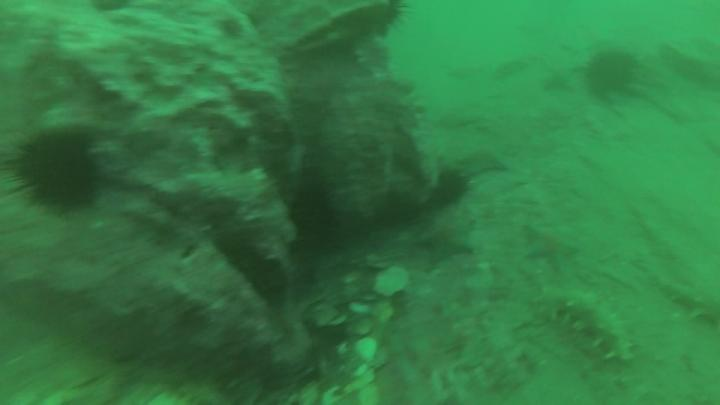echinus: (18, 134, 94, 208), (287, 183, 339, 234), (585, 51, 633, 97), (437, 172, 468, 201)
holothurian: (535, 289, 635, 362), (663, 279, 720, 329)
scallop: (375, 269, 413, 299)
starfish: (421, 218, 479, 263), (525, 223, 578, 272), (462, 149, 507, 178)
